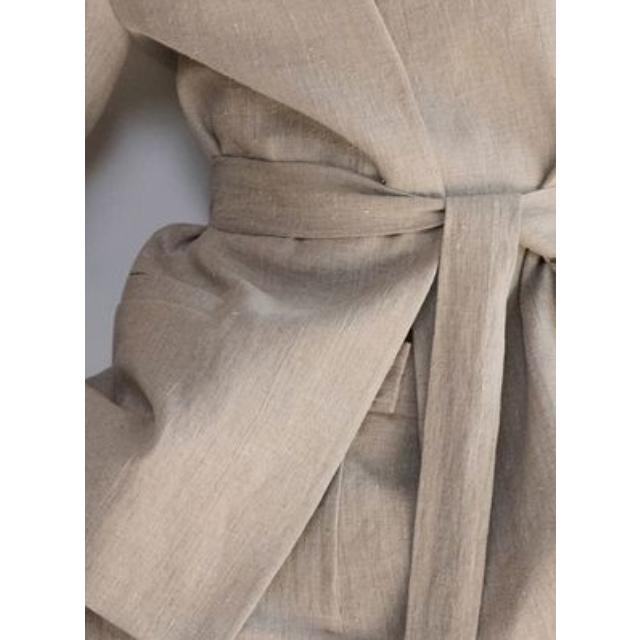linen: (86, 0, 554, 640)
